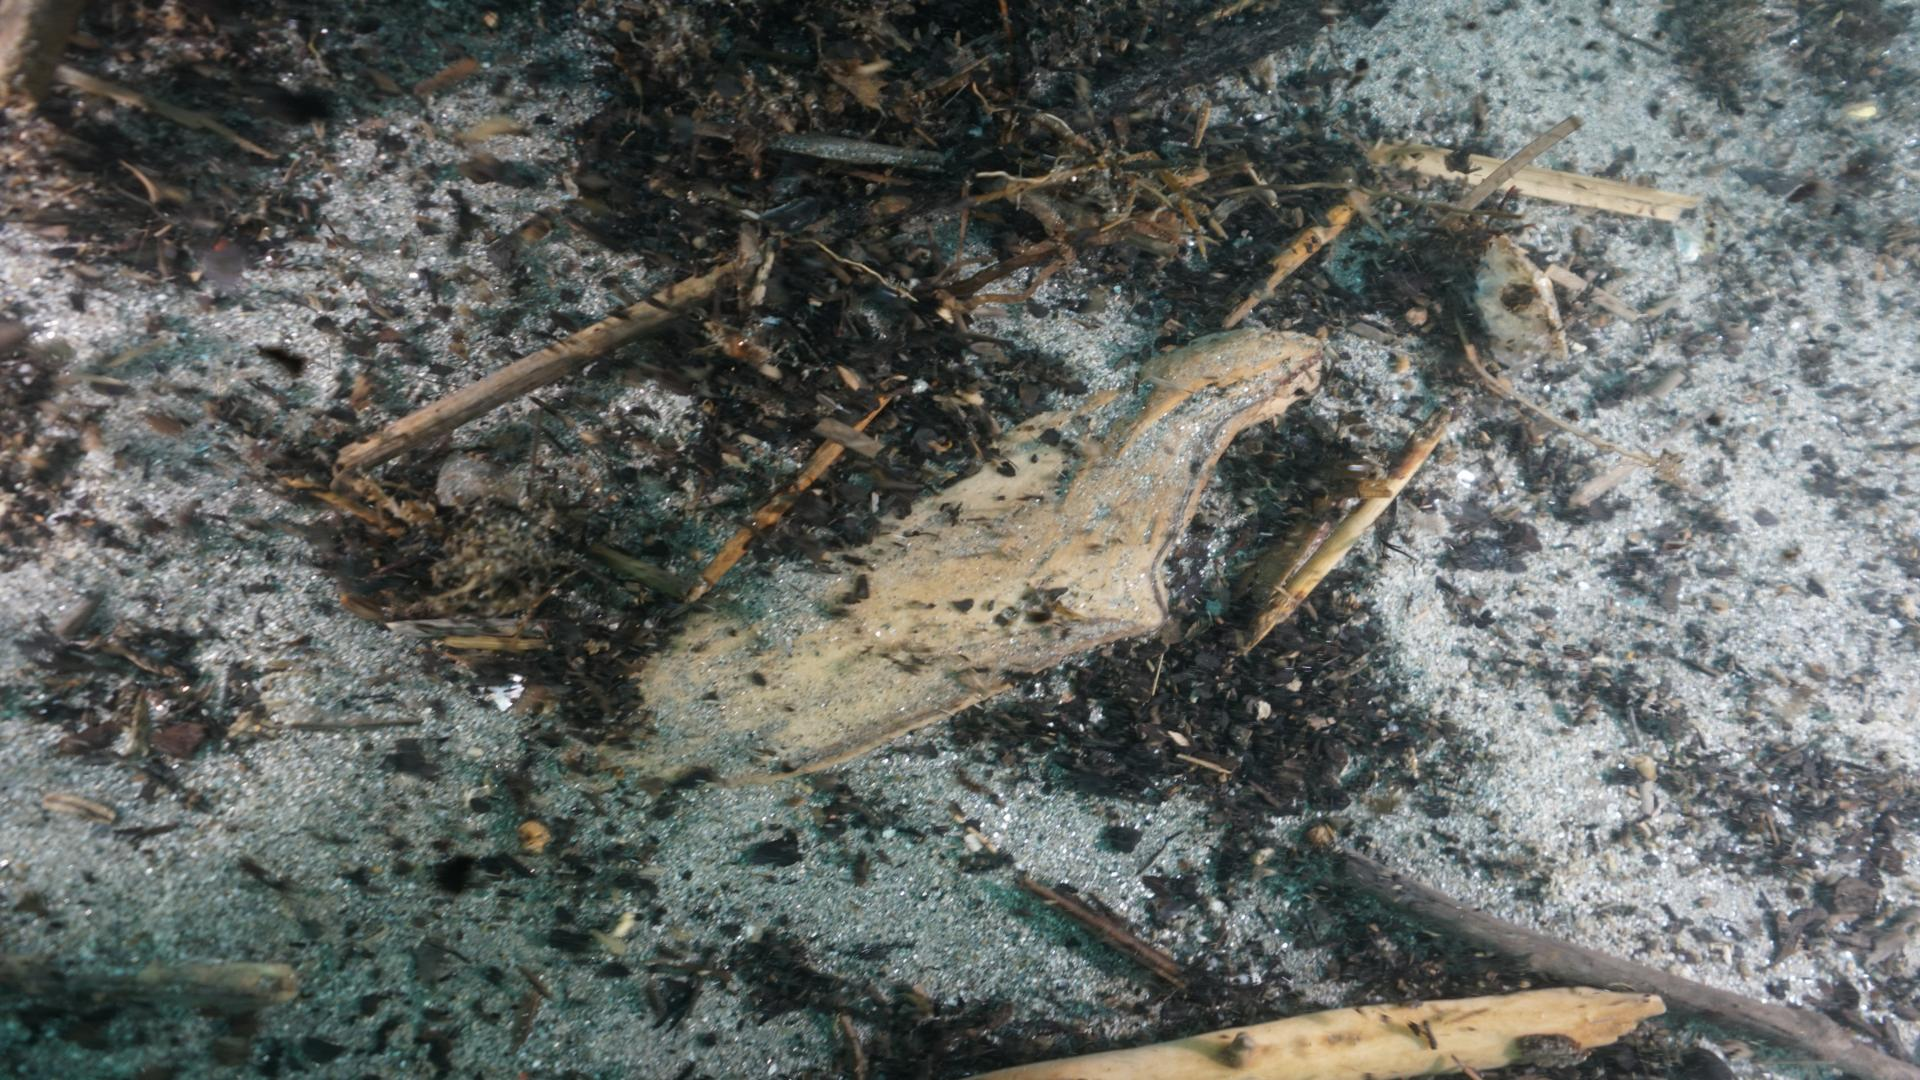wood: (634, 327, 1327, 785), (951, 984, 1662, 1080)
